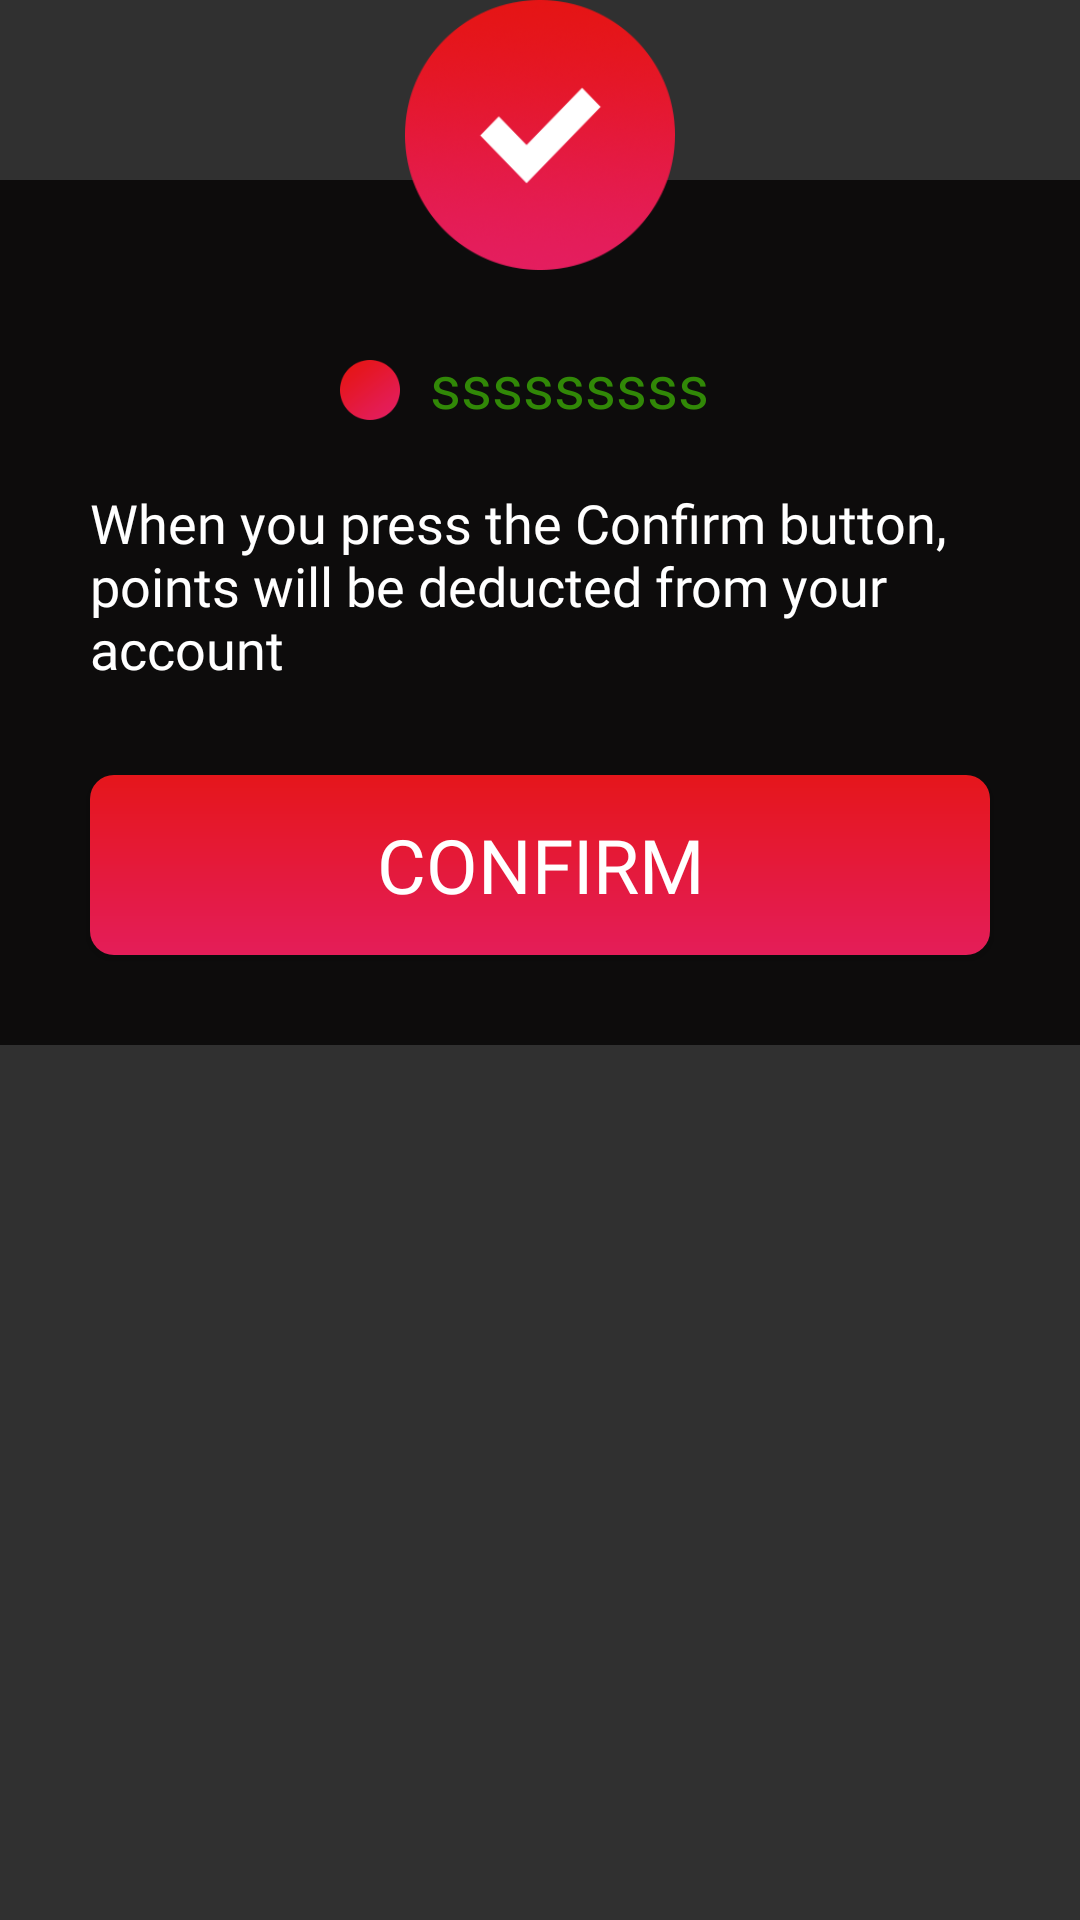

Screen size 1080w x 1920h. Icon name, then its center in pixels as [x,y]:
done: [540,135]
